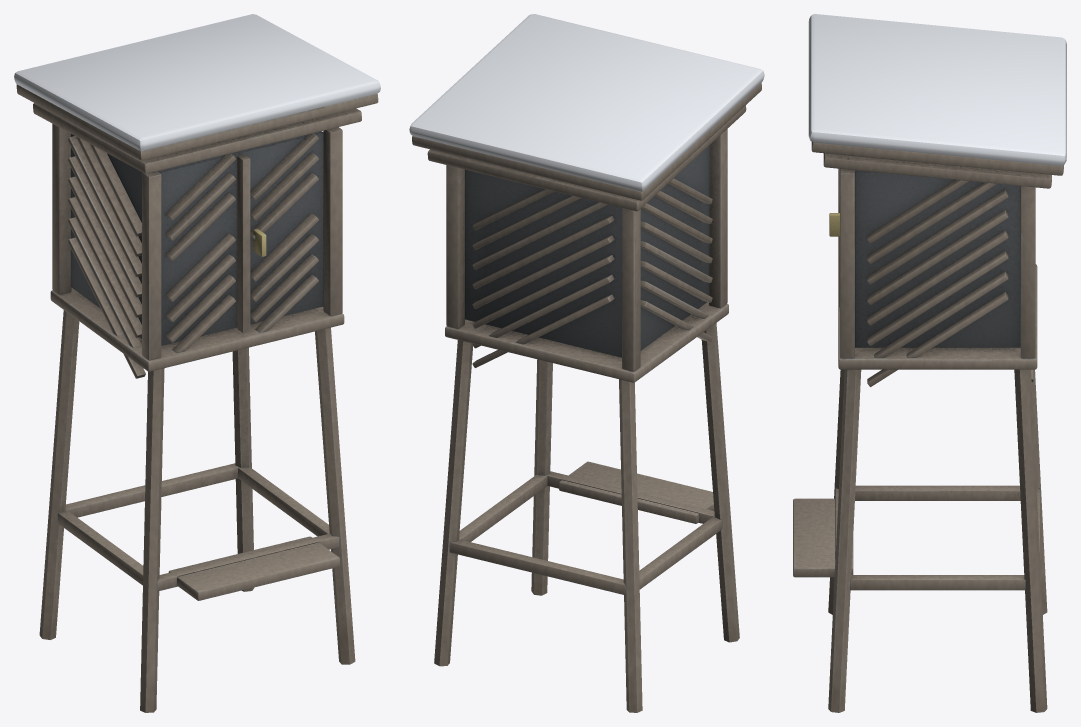
Rendered from old_meteo_screen.glb.
The picture shows the model from 3 angles, left to right: view 1: azimuth 30°, elevation 25°; view 2: azimuth 150°, elevation 25°; view 3: azimuth 270°, elevation 25°; orthographic projection. The views are drawn at different scales.
Visible parts, largest first — view 1: old_meteo_screen; view 2: old_meteo_screen; view 3: old_meteo_screen.
Boxes of the visible parts, box(x1,y1,x2,y2) form: old_meteo_screen: box(14, 14, 380, 712); old_meteo_screen: box(409, 14, 764, 712); old_meteo_screen: box(793, 14, 1066, 712).
Size of the model in its own units: 0.94 by 2.16 by 0.9082.
1 material, 1 textured.
